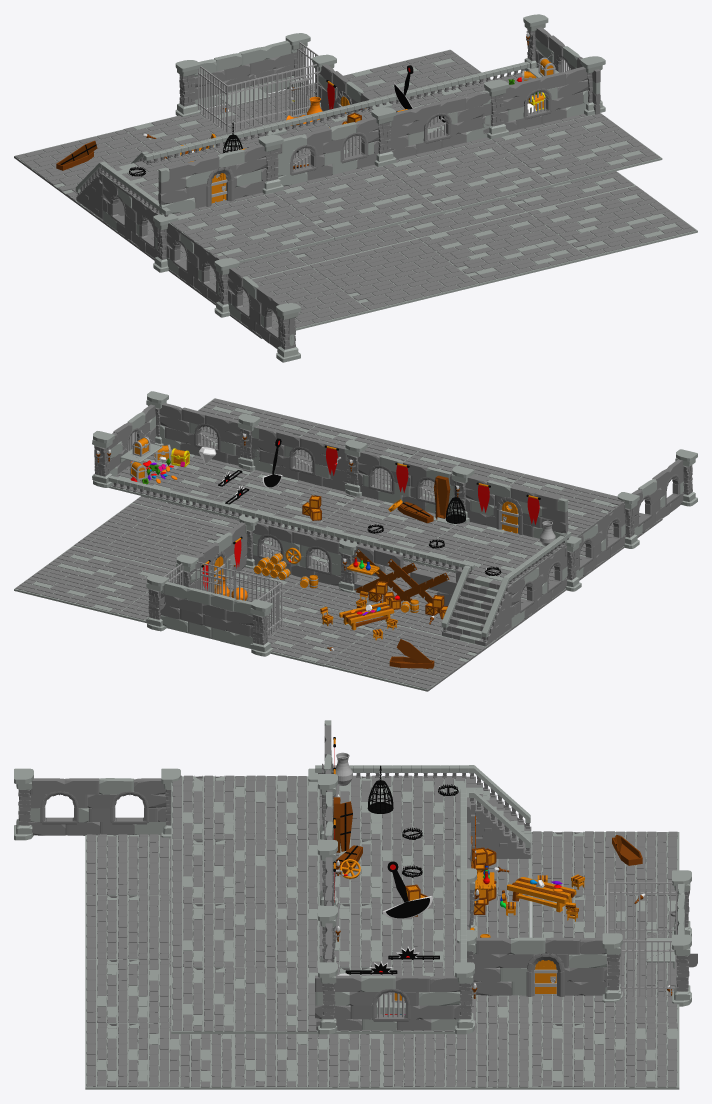
The model's file is demoscene.fbx.
The picture shows the model from 3 angles, top to bottom: view 1: azimuth 30°, elevation 25°; view 2: azimuth 150°, elevation 25°; view 3: azimuth 270°, elevation 25°; orthographic projection. The views are drawn at different scales.
Visible parts, largest first — view 1: floor.019, floor.018, floor.023, floor.025, floor.028, floor.029, floor.024, walls.013, walls.016, walls.018, floor.022, walls.017 (+36 smaller); view 2: floor.013, floor.009, floor.007, floor.006, floor.015, walls.020, floor.026, floor.008, walls.013, walls.016, walls.017, rampflate.002 (+41 smaller); view 3: floor.013, floor.029, floor.025, floor.028, floor.024, floor.019, floor.009, floor.017, floor.007, floor.026, walls.014, floor.006 (+33 smaller).
Boxes of the visible parts, bbox=[...] form: floor.019: bbox=[527, 185, 697, 258]; floor.018: bbox=[418, 212, 588, 285]; floor.023: bbox=[309, 238, 479, 312]; floor.025: bbox=[274, 166, 443, 239]; floor.028: bbox=[382, 140, 552, 212]; floor.029: bbox=[492, 113, 662, 186]; floor.024: bbox=[168, 193, 334, 262]; walls.013: bbox=[158, 144, 267, 214]; walls.016: bbox=[390, 90, 490, 159]; walls.018: bbox=[277, 117, 378, 186]; floor.022: bbox=[199, 265, 370, 338]; walls.017: bbox=[480, 66, 588, 134]; floor.013: bbox=[14, 546, 174, 615]; floor.009: bbox=[73, 503, 232, 571]; floor.007: bbox=[324, 622, 486, 691]; floor.006: bbox=[408, 521, 566, 585]; floor.015: bbox=[220, 597, 382, 666]; walls.020: bbox=[160, 581, 253, 647]; floor.026: bbox=[201, 470, 355, 532]; floor.008: bbox=[307, 496, 455, 560]; walls.013: bbox=[465, 476, 568, 543]; walls.016: bbox=[251, 425, 347, 491]; walls.017: bbox=[159, 403, 261, 465]; rampflate.002: bbox=[108, 476, 474, 573]; floor.013: bbox=[530, 1023, 679, 1089]; floor.029: bbox=[171, 967, 317, 1033]; floor.025: bbox=[171, 839, 319, 904]; floor.028: bbox=[171, 903, 319, 968]; floor.024: bbox=[171, 775, 319, 840]; floor.019: bbox=[85, 1023, 233, 1089]; floor.009: bbox=[382, 1023, 530, 1089]; floor.017: bbox=[233, 1034, 382, 1089]; floor.007: bbox=[530, 831, 679, 896]; floor.026: bbox=[318, 903, 460, 968]; walls.014: bbox=[473, 937, 606, 996]; floor.006: bbox=[318, 775, 466, 840].
Size of the model in its own units: 1087 by 264 by 1192.
